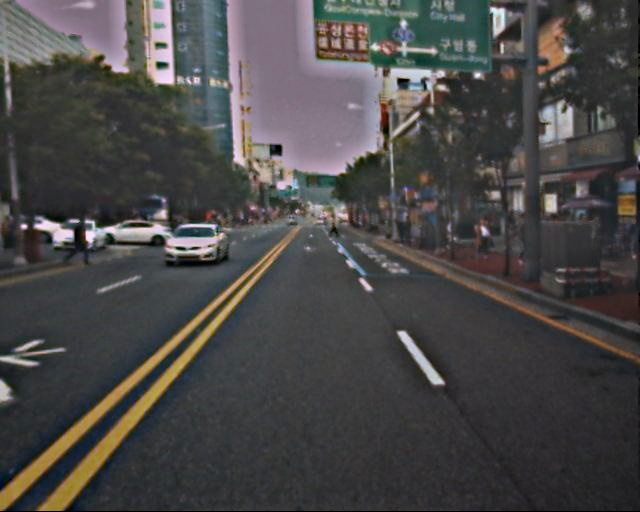person: (619, 218, 640, 293), (70, 216, 91, 268), (389, 222, 427, 249), (473, 215, 492, 262), (328, 214, 338, 238)
